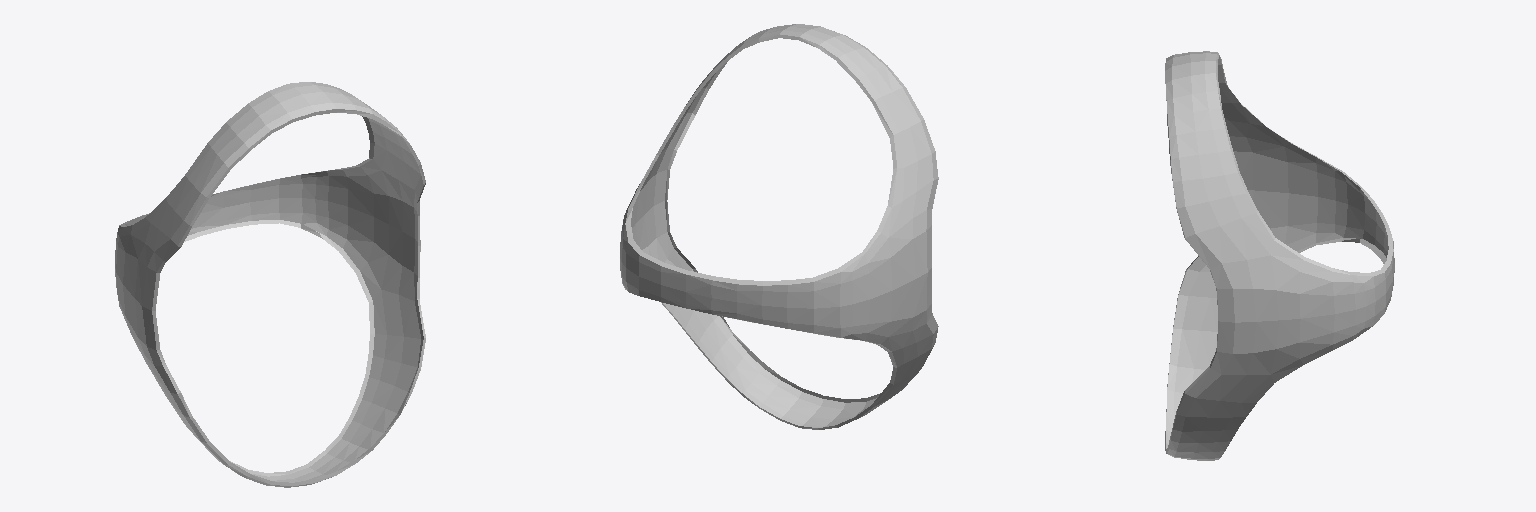
File: TrunkYaw_mainskin.obj
3 views of the same model, side by side, from view 1: azimuth 30°, elevation 25°; view 2: azimuth 150°, elevation 25°; view 3: azimuth 270°, elevation 25° (orthographic).
Size of the model in its own units: 0.2302 by 0.3145 by 0.1674.